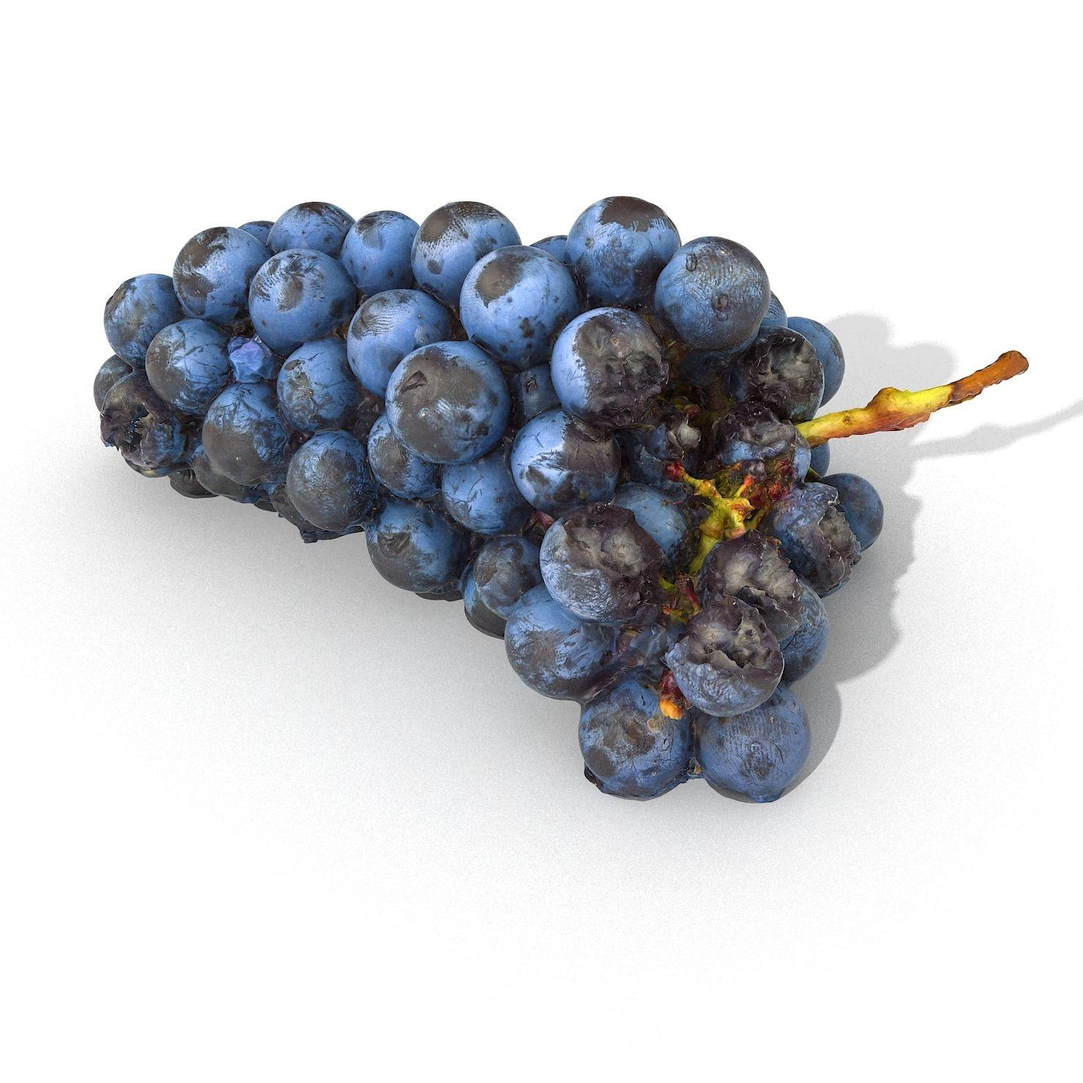Grape Overripe: (95, 198, 880, 801)
